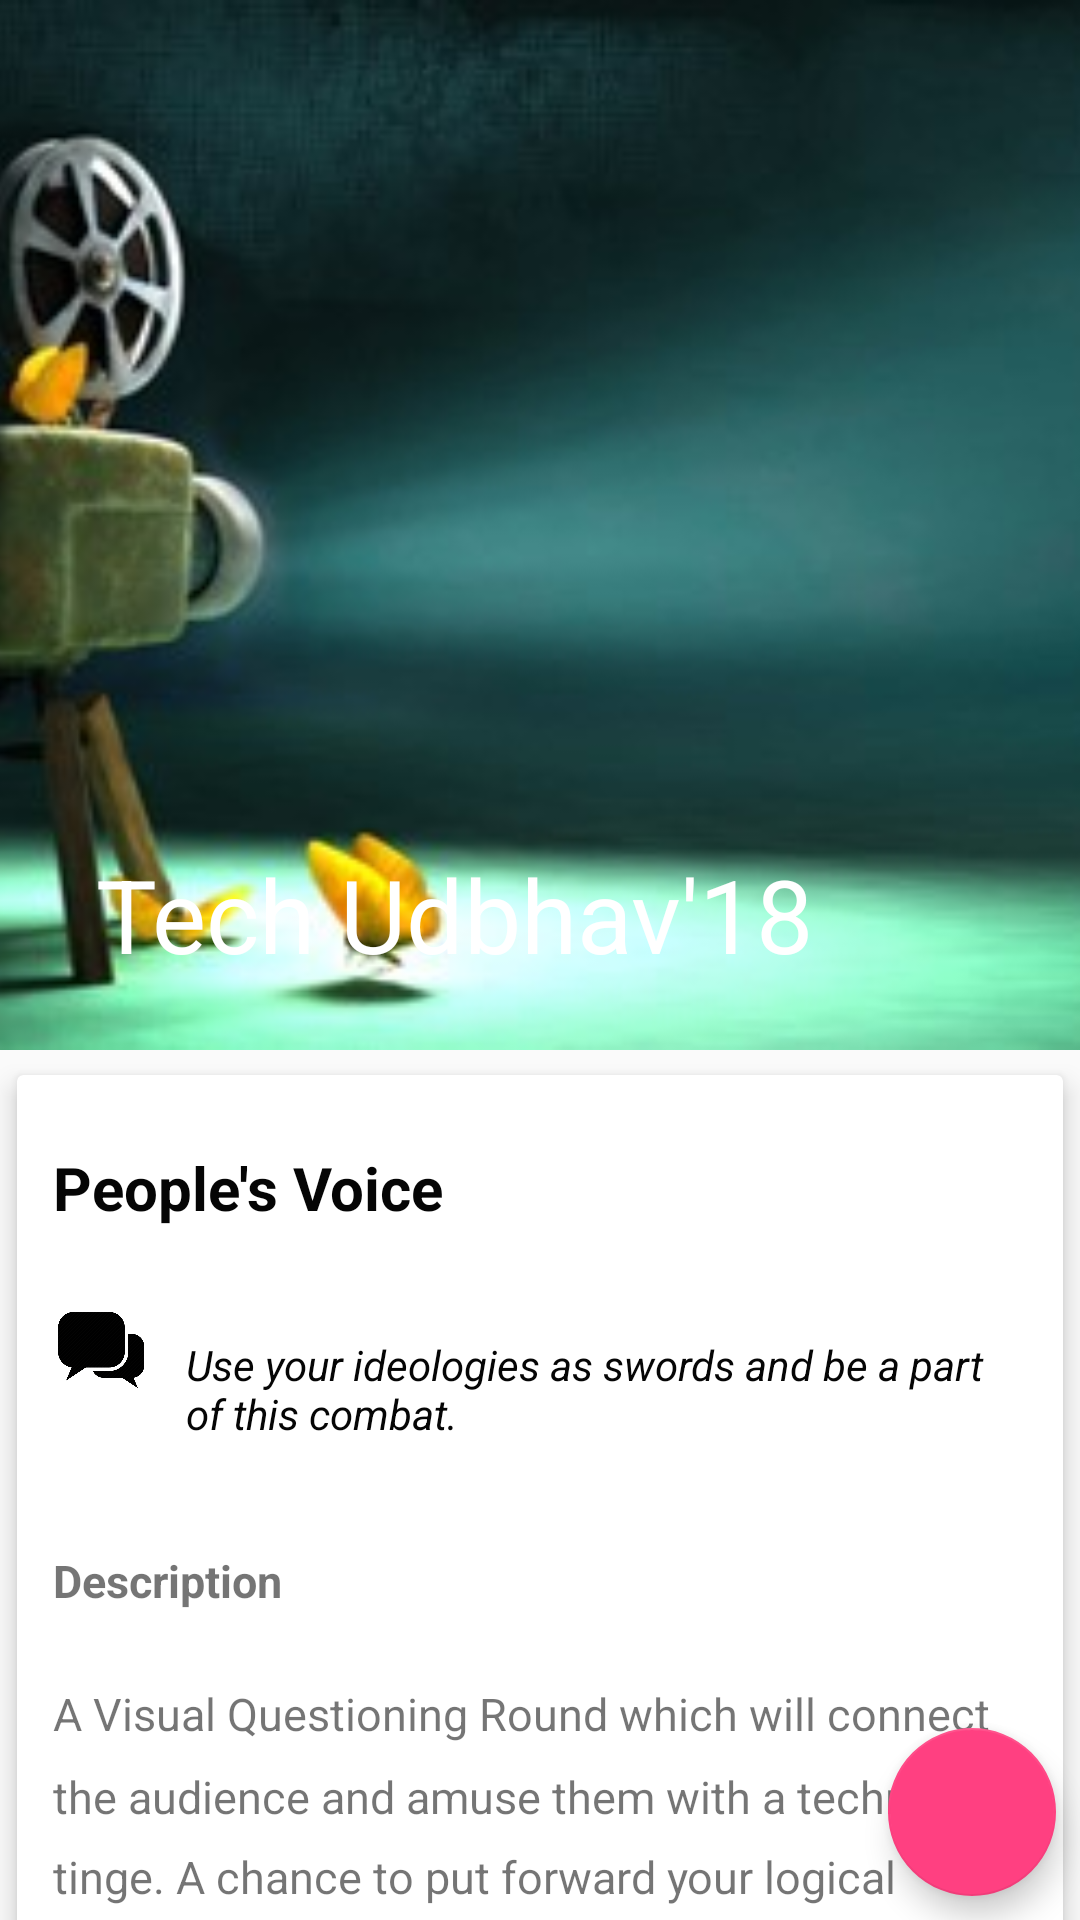

Icons on this 1080 x 1920 Android screen, each with its box as region(x1, y1, x2, y2):
discussion: region(58, 1312, 144, 1388)
